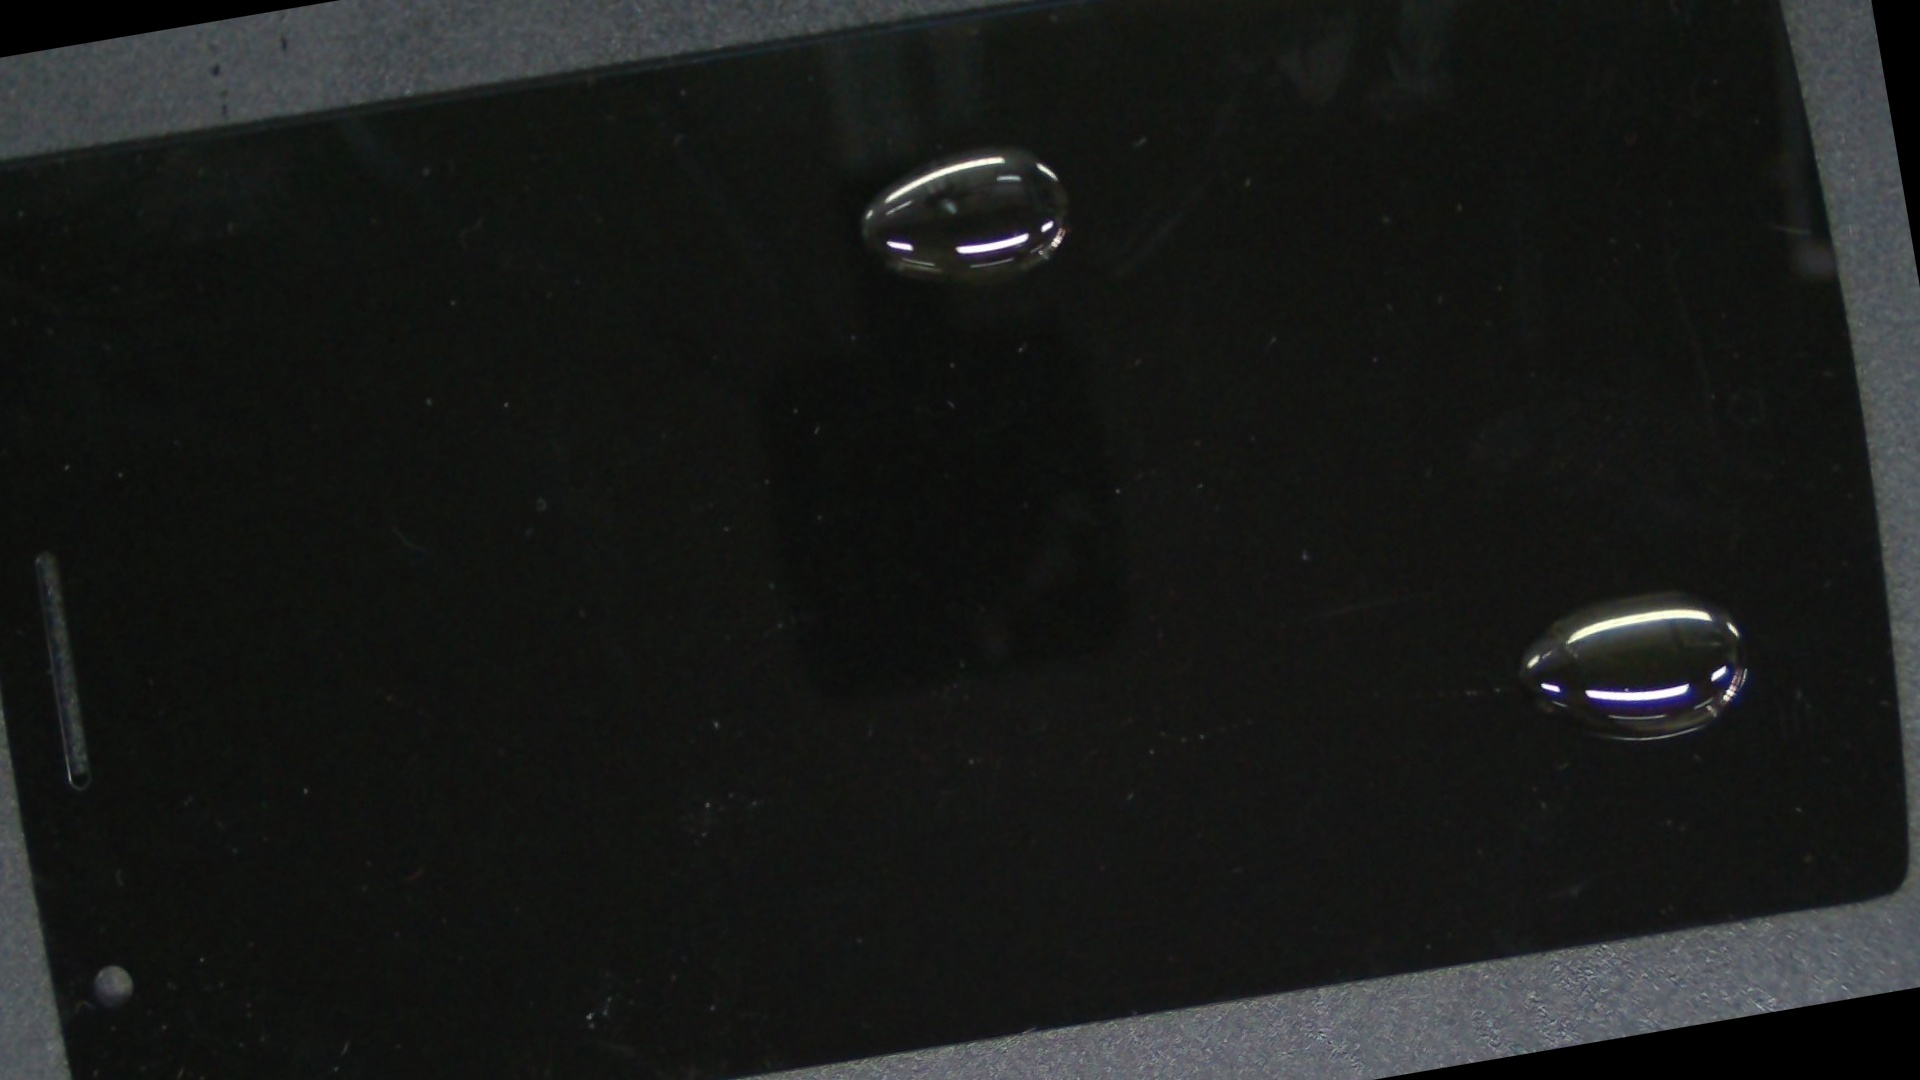oil: (713, 143, 1920, 1080), (398, 0, 1529, 369)
